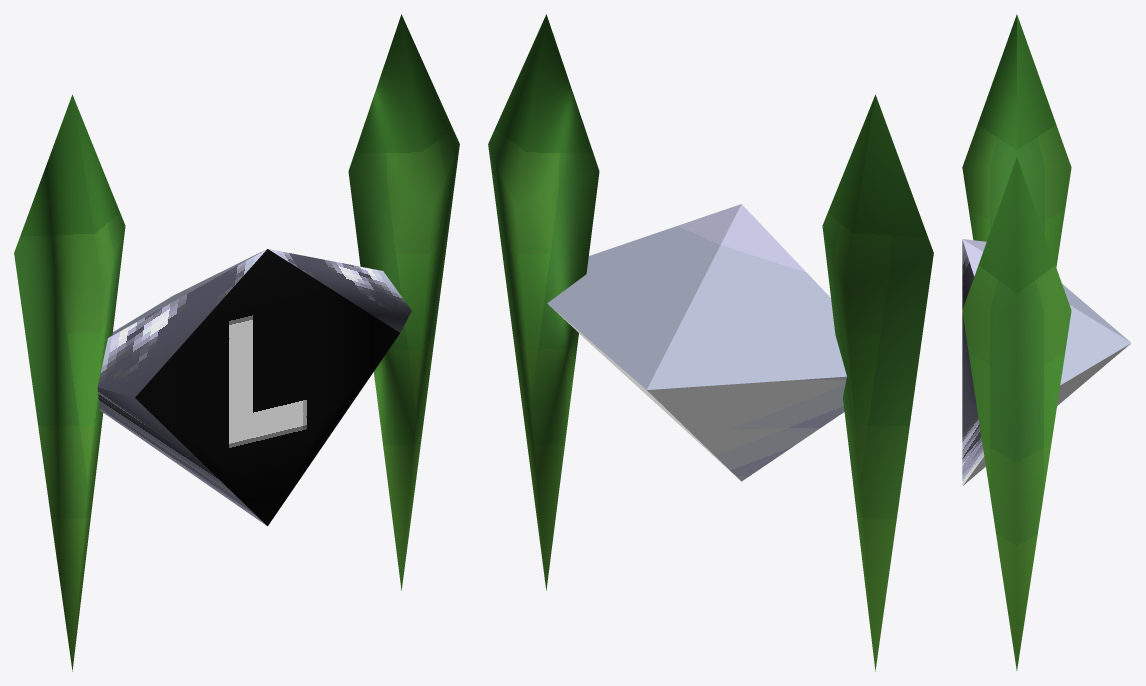
The model's file is ammo_boost.fbx.
3 renders of one model, left to right at view 1: azimuth 30°, elevation 25°; view 2: azimuth 150°, elevation 25°; view 3: azimuth 270°, elevation 25°, orthographic. The views are drawn at different scales.
Parts seen in each view (by area): view 1: ShapeIndexedFaceSet.045; view 2: ShapeIndexedFaceSet.045; view 3: ShapeIndexedFaceSet.045.
Part boxes in pixels (box(x1,y1,x2,y2)): ShapeIndexedFaceSet.045: box(14, 14, 459, 671); ShapeIndexedFaceSet.045: box(488, 14, 933, 671); ShapeIndexedFaceSet.045: box(962, 14, 1130, 670).
Bounding box in the file's own units: 454 × 562 × 167.
3 materials, 3 textured.
